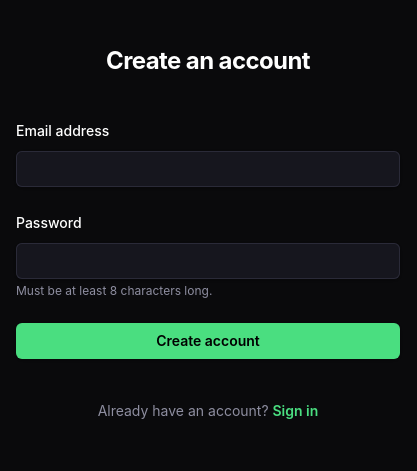
Scenario: Authentication Flow & Security › registration API failure displays error
Type "test@example.com" into the field labelled "Email address".
click(208, 169); type("test@example.com")  # box [16, 151, 400, 187]
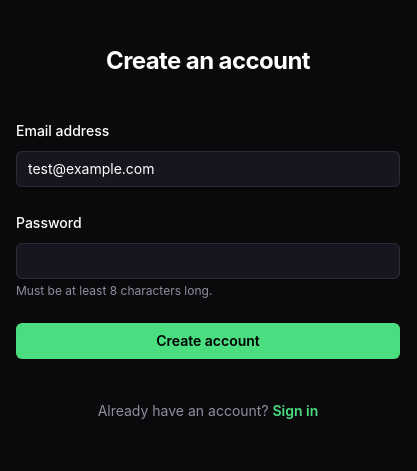
Type "Password123!" into the password field labelled "Password".
click(208, 261); type("Password123!")  # box [16, 243, 400, 279]
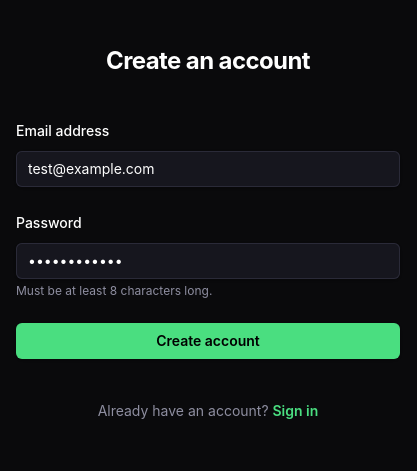
Submit the form "Create account", box [16, 119, 400, 359]
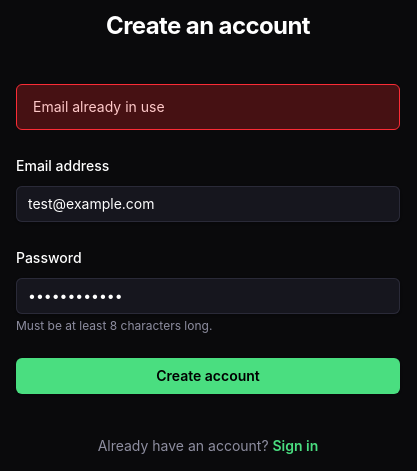
Now the text "Email already in use" is shown, box [16, 84, 400, 130]
